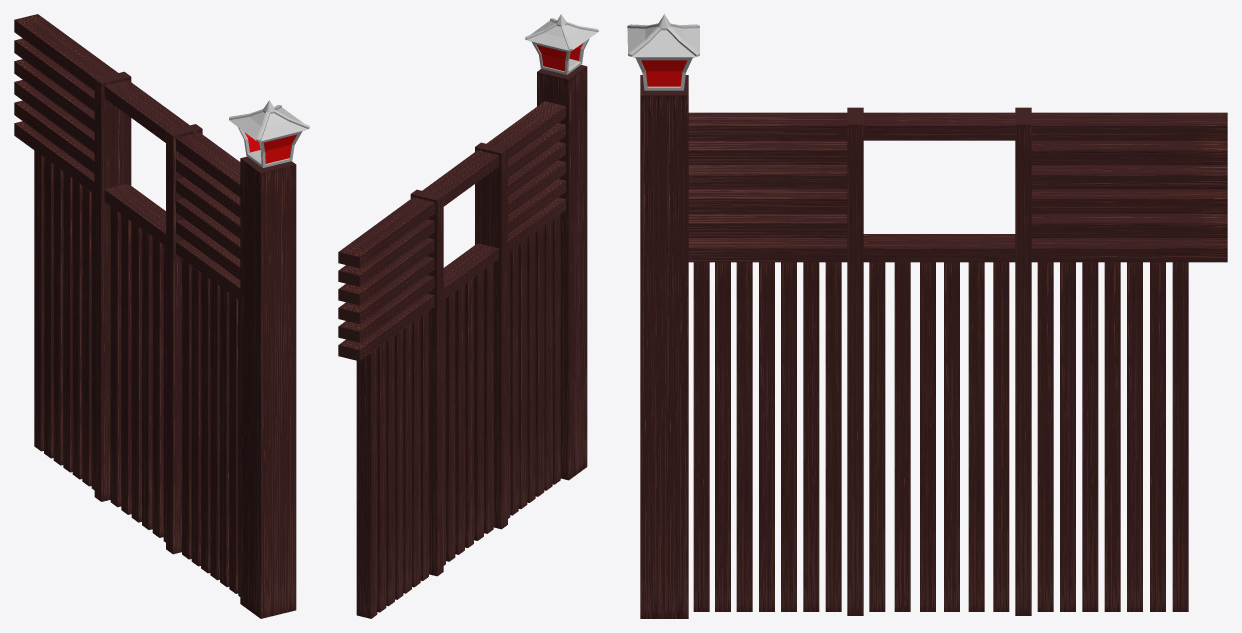
The model's file is fence-main.fbx.
3 views of the same model, side by side, from view 1: azimuth 30°, elevation 25°; view 2: azimuth 150°, elevation 25°; view 3: azimuth 270°, elevation 25° (orthographic). The views are drawn at different scales.
Parts seen in each view (by area): view 1: Box004, Group001, Plane003; view 2: Box004, Group001, Plane002; view 3: Box004, Group001, Plane001.
Part boxes in pixels (x1=…): Box004: x1=14, y1=14, x2=296, y2=618; Group001: x1=229, y1=100, x2=309, y2=167; Plane003: x1=263, y1=134, x2=296, y2=163; Box004: x1=338, y1=65, x2=587, y2=618; Group001: x1=525, y1=14, x2=598, y2=74; Plane002: x1=536, y1=45, x2=566, y2=71; Box004: x1=640, y1=75, x2=1227, y2=618; Group001: x1=627, y1=14, x2=699, y2=90; Plane001: x1=641, y1=60, x2=687, y2=86.
Size of the model in its own units: 8.92 by 80.58 by 73.61.
